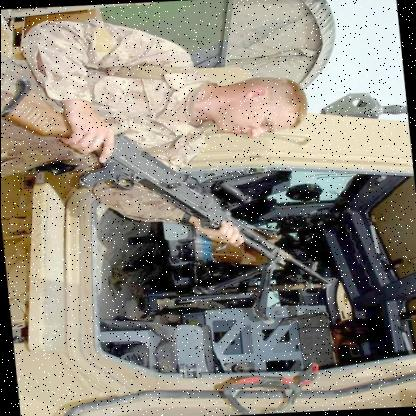rifle: (16, 127, 336, 306)
